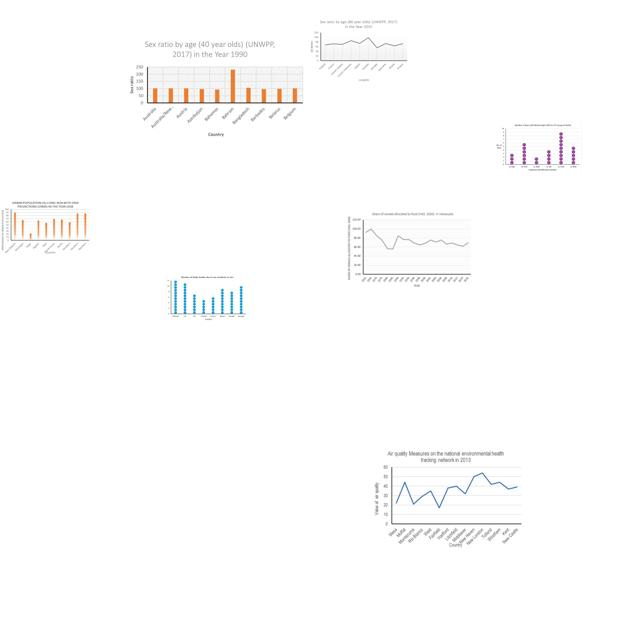Graph: (124, 38, 304, 140), (372, 449, 524, 549), (345, 210, 473, 289), (308, 18, 409, 82), (0, 200, 91, 254), (494, 123, 582, 172), (166, 274, 248, 323)
